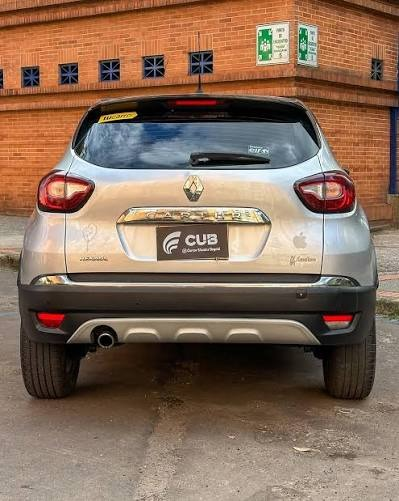car: (20, 95, 385, 390)
